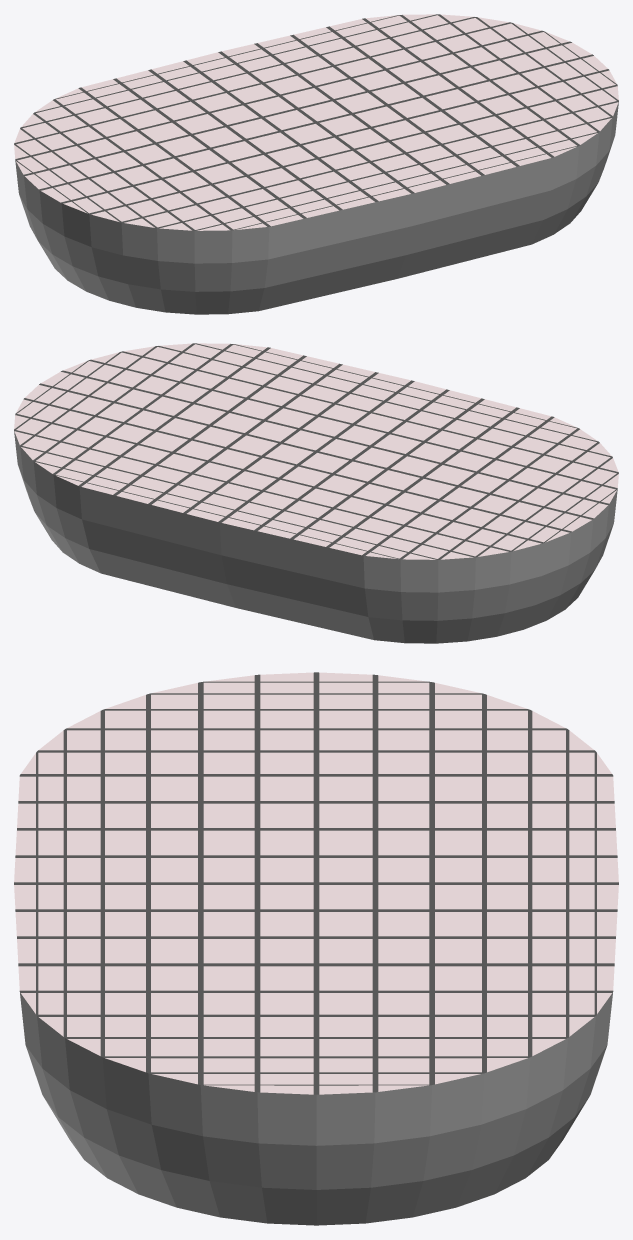
Rendered from SofiStadium.fbx.
3 renders of one model, top to bottom at view 1: azimuth 30°, elevation 25°; view 2: azimuth 150°, elevation 25°; view 3: azimuth 270°, elevation 25°, orthographic. The views are drawn at different scales.
Parts seen in each view (by area): view 1: Stadium; view 2: Stadium; view 3: Stadium.
Boxes of the visible parts, box(x1,y1,x2,y2) form: Stadium: box(14, 14, 618, 314); Stadium: box(14, 343, 618, 643); Stadium: box(14, 672, 618, 1225).
Size of the model in its own units: 38000 by 6389 by 23000.
